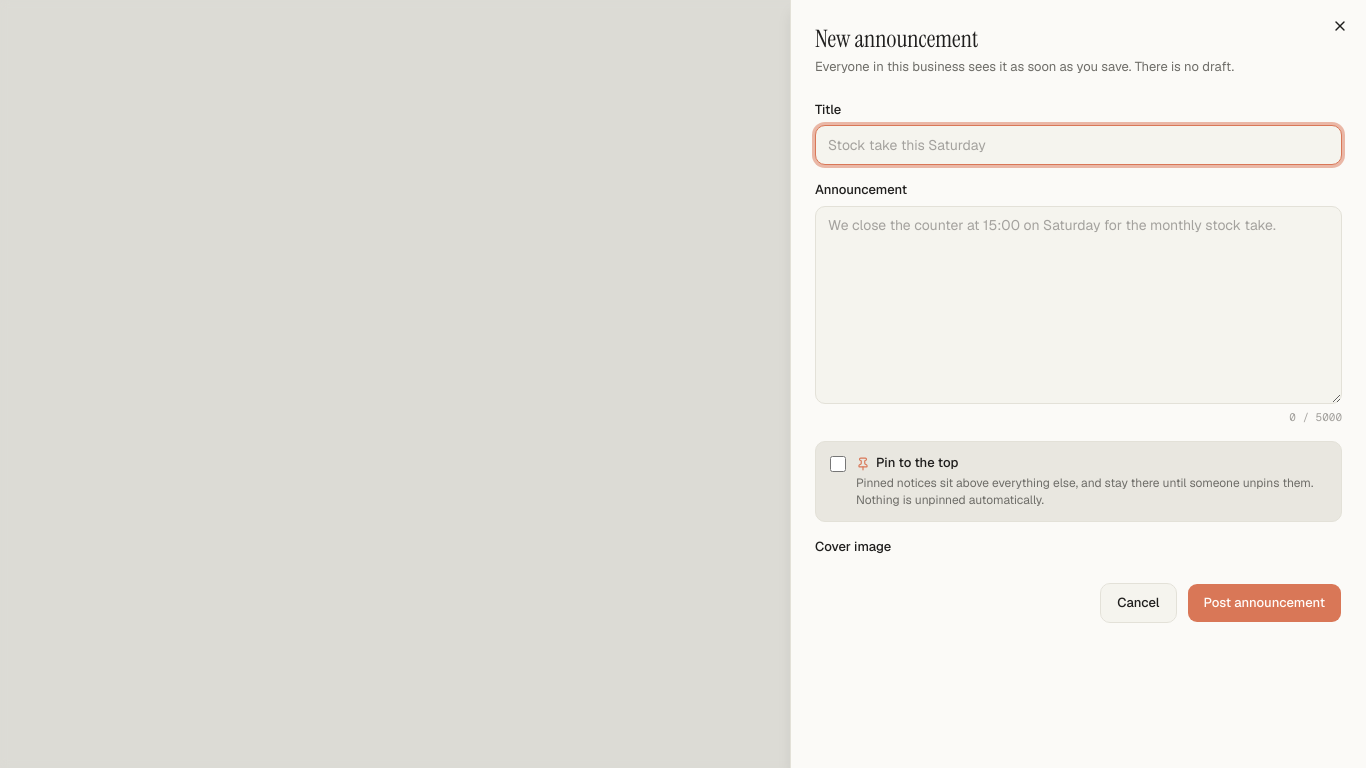
Test: AnnouncementFormSheet — creating › refuses an empty body at the control rather than posting a 422
Type "T" into the field labelled "Title" at (1078, 145), box x1=815 y1=125 x2=1342 y2=165
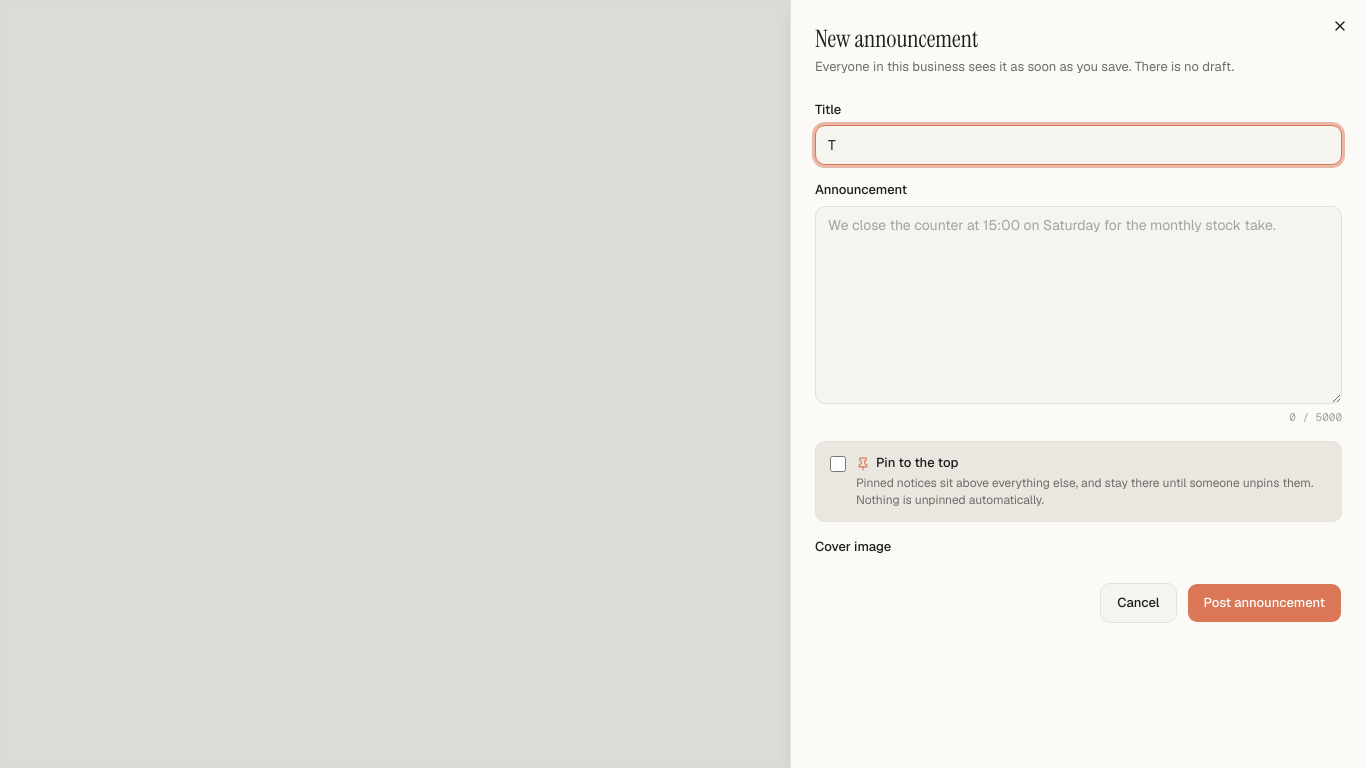
Click the button "Post announcement" at (1264, 603), box x1=1186 y1=583 x2=1342 y2=623
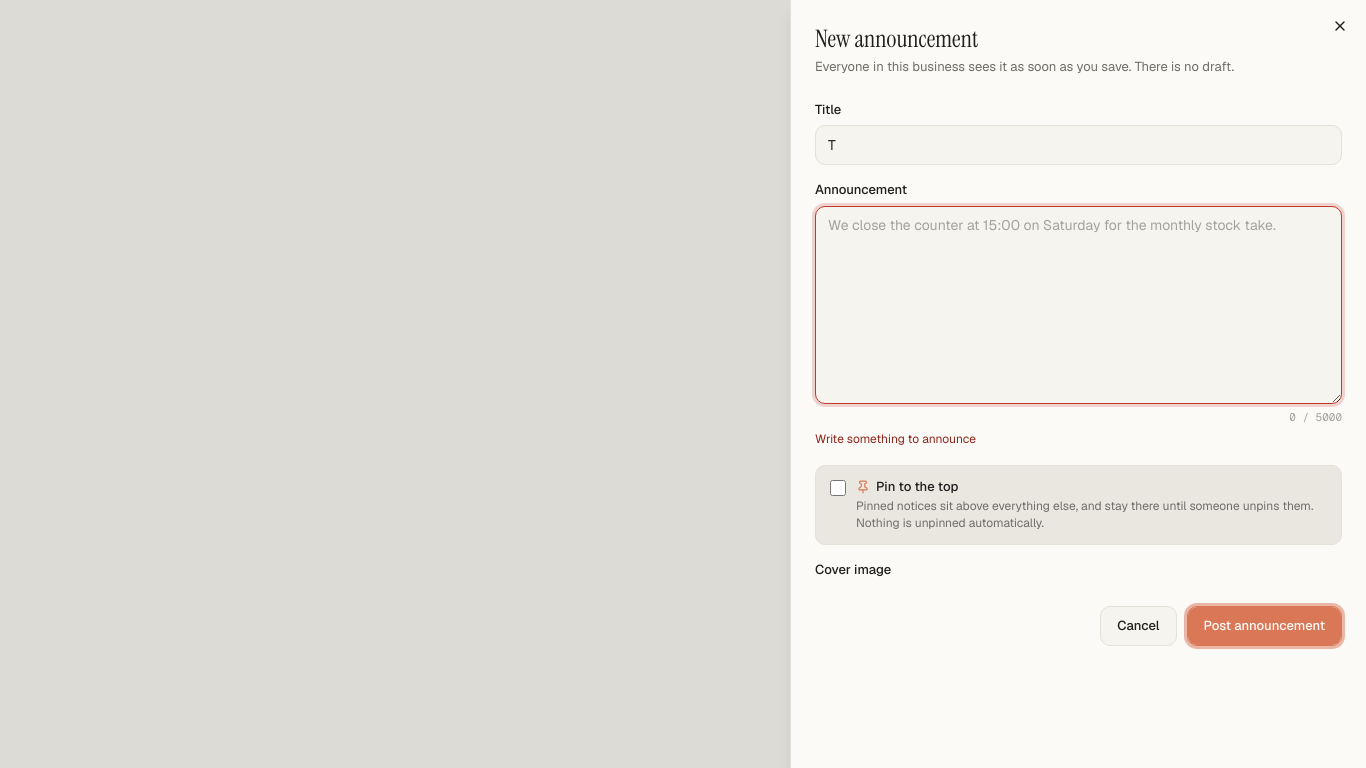
Expected: the message reads "Write something to announce", x1=815 y1=431 x2=976 y2=447
